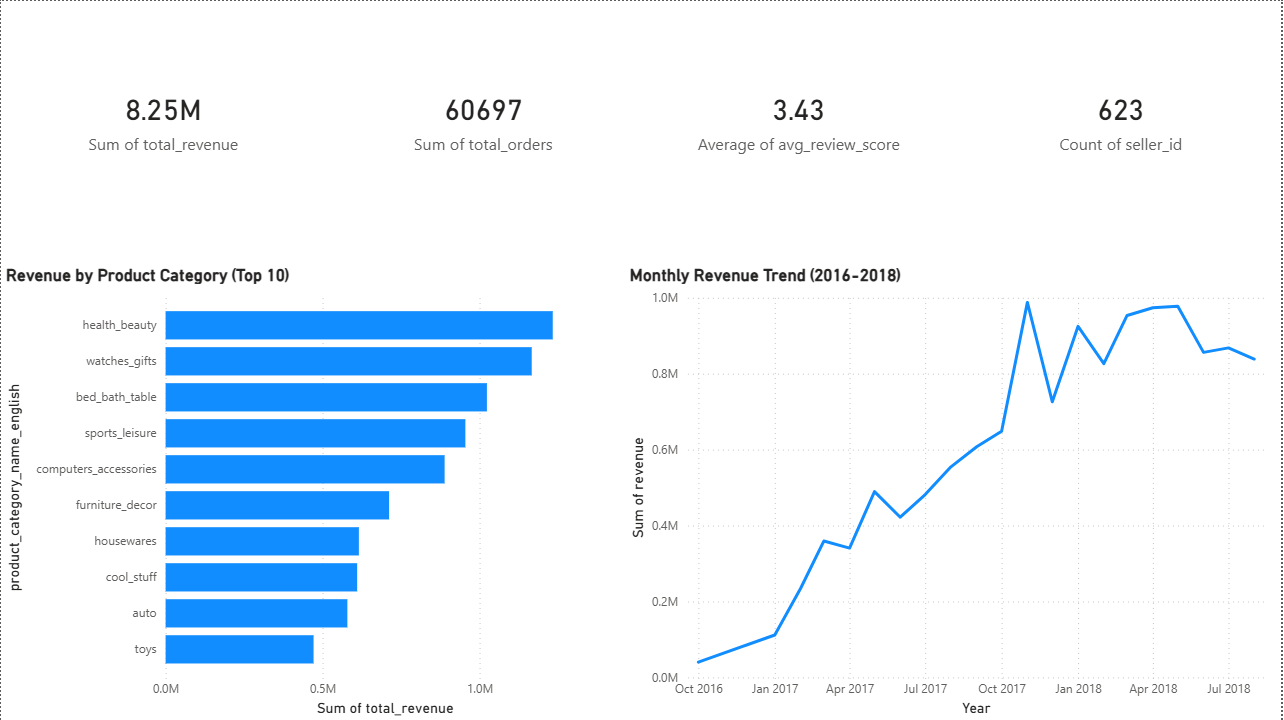

Layout of this report page (visuals, bound fields, positions):
{"tool":"powerbi","page":{"name":"REVENUE ANALYSIS","canvas":[1280,720],"ordinal":0},"visuals":[{"type":"card","fields":{"Values":["Sum(category_revenue.total_revenue)"]},"box":[0,0,325,236.7],"z":0},{"type":"card","fields":{"Values":["Sum(category_revenue.total_orders)"]},"box":[325,0,315,236.7],"z":1},{"type":"card","fields":{"Values":["Avg(delivery_vs_review.avg_review_score)"]},"box":[643.3,0,308.3,236.7],"z":2},{"type":"card","fields":{"Values":["Count(seller_performance.seller_id)"]},"box":[960,0,320,236.7],"z":3},{"type":"clusteredBarChart","title":"Revenue by Product Category (Top 10)","fields":{"Category":["category_revenue.product_category_name_english"],"Y":["Sum(category_revenue.total_revenue)"]},"box":[0,263.3,623.3,456.7],"z":4},{"type":"lineChart","title":"Monthly Revenue Trend (2016-2018)","fields":{"Y":["Sum(monthly_revenue.revenue)"],"Category":["monthly_revenue.month.Variation.Date Hierarchy.Year","monthly_revenue.month.Variation.Date Hierarchy.Quarter","monthly_revenue.month.Variation.Date Hierarchy.Month","monthly_revenue.month.Variation.Date Hierarchy.Day"]},"box":[623.3,263.3,656.7,456.7],"z":5}]}

Visuals, with their boxes in screenshot pixels (x1, y1, x2, y2), scaled from the page's 1280x720 canvas onto the 1284x720 screenshot:
card - Sum(category_revenue.total_revenue): 0, 0, 326, 237
card - Sum(category_revenue.total_orders): 326, 0, 642, 237
card - Avg(delivery_vs_review.avg_review_score): 645, 0, 955, 237
card - Count(seller_performance.seller_id): 963, 0, 1283, 237
"Revenue by Product Category (Top 10)" clusteredBarChart: 0, 263, 625, 719
"Monthly Revenue Trend (2016-2018)" lineChart: 625, 263, 1283, 719
